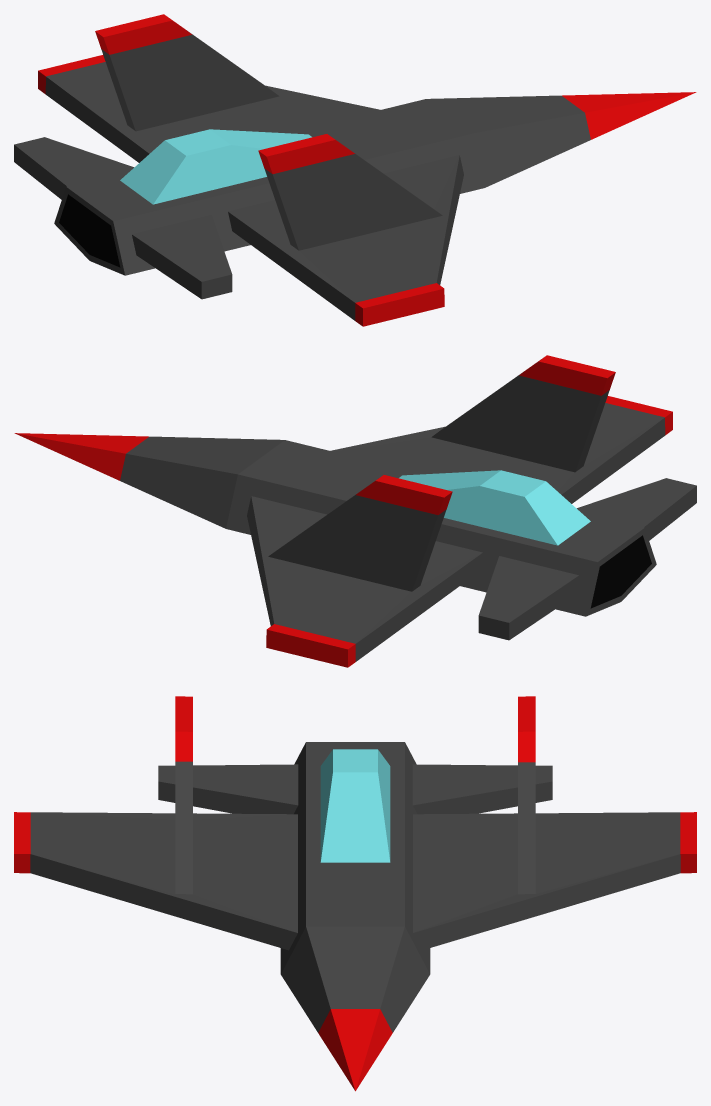
File: Enemy_BasicJet.fbx
3 renders of one model, top to bottom at view 1: azimuth 30°, elevation 25°; view 2: azimuth 150°, elevation 25°; view 3: azimuth 270°, elevation 25°, orthographic. The views are drawn at different scales.
Visible parts, largest first — view 1: Cube; view 2: Cube; view 3: Cube.
Boxes of the visible parts, x1,y1,x2,y2 form: Cube: (14, 14, 696, 326); Cube: (14, 355, 696, 667); Cube: (14, 696, 696, 1091).
Bounding box in the file's own units: 668 × 152 × 619.
